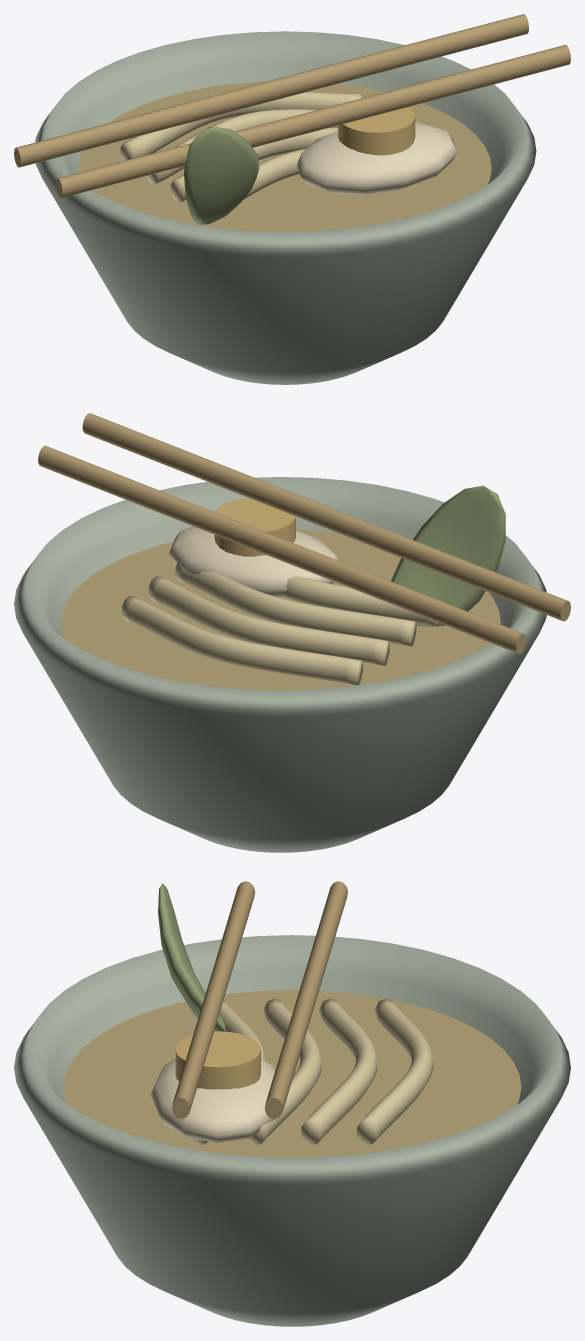
Rendered from ramen.glb.
The picture shows the model from 3 angles, top to bottom: view 1: azimuth 30°, elevation 25°; view 2: azimuth 150°, elevation 25°; view 3: azimuth 270°, elevation 25°; orthographic projection. The views are drawn at different scales.
Parts seen in each view (by area): view 1: ramen-bowl, contained-broth, chopstick--0-025, chopstick-0-025, egg-white, greens, noodle-0, egg-yolk, noodle-1, noodle-2, noodle-3; view 2: ramen-bowl, contained-broth, chopstick-0-025, chopstick--0-025, greens, noodle-0, noodle-1, noodle-2, egg-white, noodle-3, egg-yolk; view 3: ramen-bowl, contained-broth, egg-white, chopstick--0-025, chopstick-0-025, noodle-0, noodle-1, egg-yolk, noodle-2, greens, noodle-3.
Boxes of the visible parts, x1,y1,x2,y2 form: ramen-bowl: [35, 31, 536, 384]; contained-broth: [78, 81, 491, 232]; chopstick--0-025: [14, 14, 528, 167]; chopstick-0-025: [56, 44, 570, 198]; egg-white: [296, 122, 457, 194]; greens: [184, 126, 259, 224]; noodle-0: [120, 92, 361, 160]; egg-yolk: [338, 107, 415, 155]; noodle-1: [147, 109, 337, 183]; noodle-2: [170, 127, 337, 202]; noodle-3: [243, 148, 305, 199]; ramen-bowl: [14, 477, 546, 852]; contained-broth: [61, 530, 500, 690]; chopstick-0-025: [82, 413, 570, 621]; chopstick--0-025: [38, 446, 526, 653]; greens: [390, 485, 505, 626]; noodle-0: [121, 596, 362, 685]; noodle-1: [148, 576, 389, 665]; noodle-2: [175, 562, 416, 646]; egg-white: [169, 526, 339, 597]; noodle-3: [282, 575, 440, 626]; egg-yolk: [214, 498, 295, 556]; ramen-bowl: [14, 935, 570, 1326]; contained-broth: [63, 990, 521, 1157]; egg-white: [150, 1059, 275, 1142]; chopstick--0-025: [265, 881, 347, 1119]; chopstick-0-025: [172, 881, 255, 1119]; noodle-0: [357, 998, 433, 1145]; noodle-1: [301, 998, 377, 1145]; egg-yolk: [175, 1031, 260, 1089]; noodle-2: [247, 998, 321, 1145]; greens: [158, 883, 225, 1031]; noodle-3: [192, 1000, 265, 1145].
Bounding box in the file's own units: 0.3312 × 0.1918 × 0.3.
